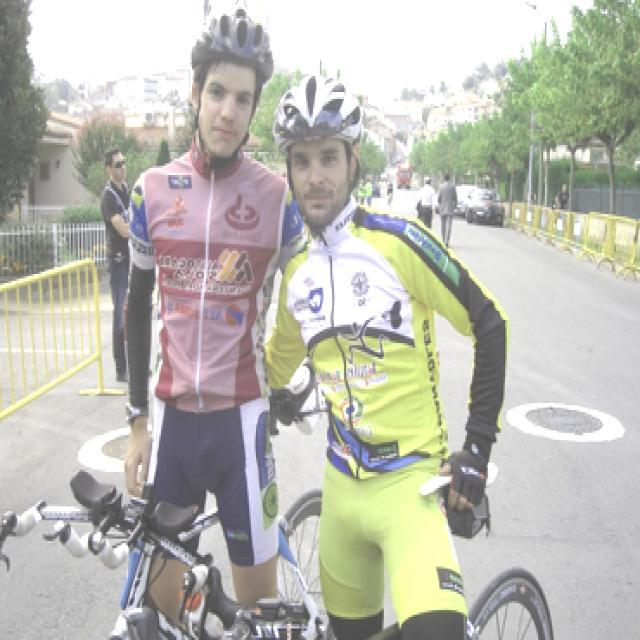Helmet: (178, 0, 275, 166), (268, 74, 363, 230)
